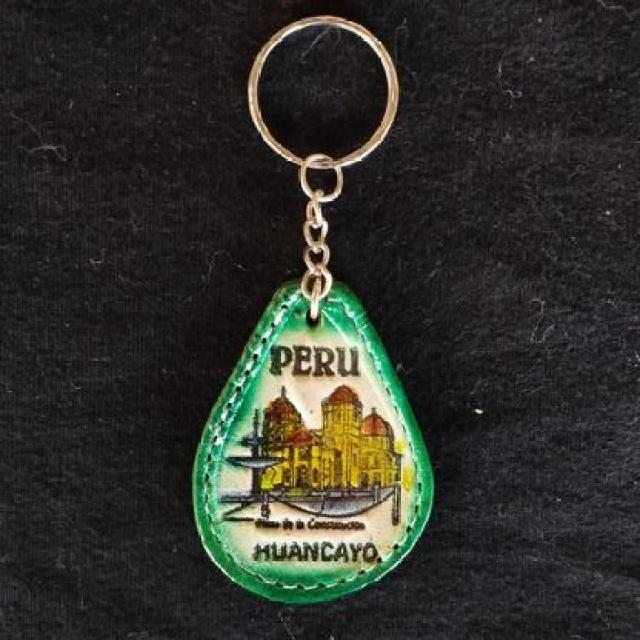Llavero: (191, 274, 435, 604)
